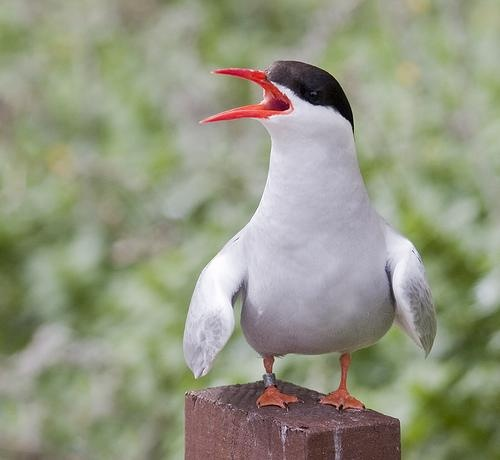bird: (178, 52, 436, 417)
